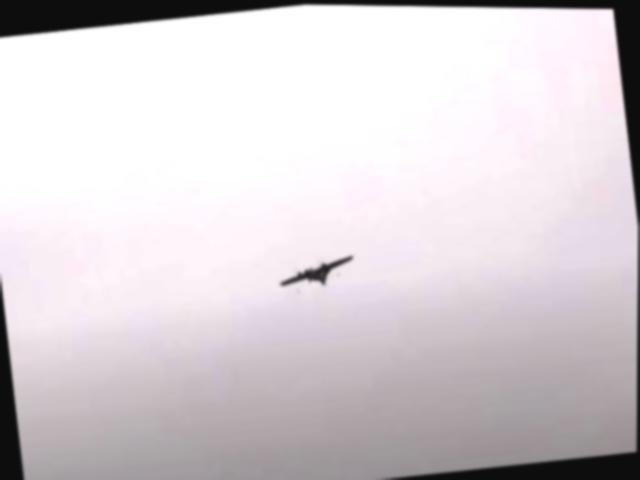iha: (276, 247, 358, 294)
